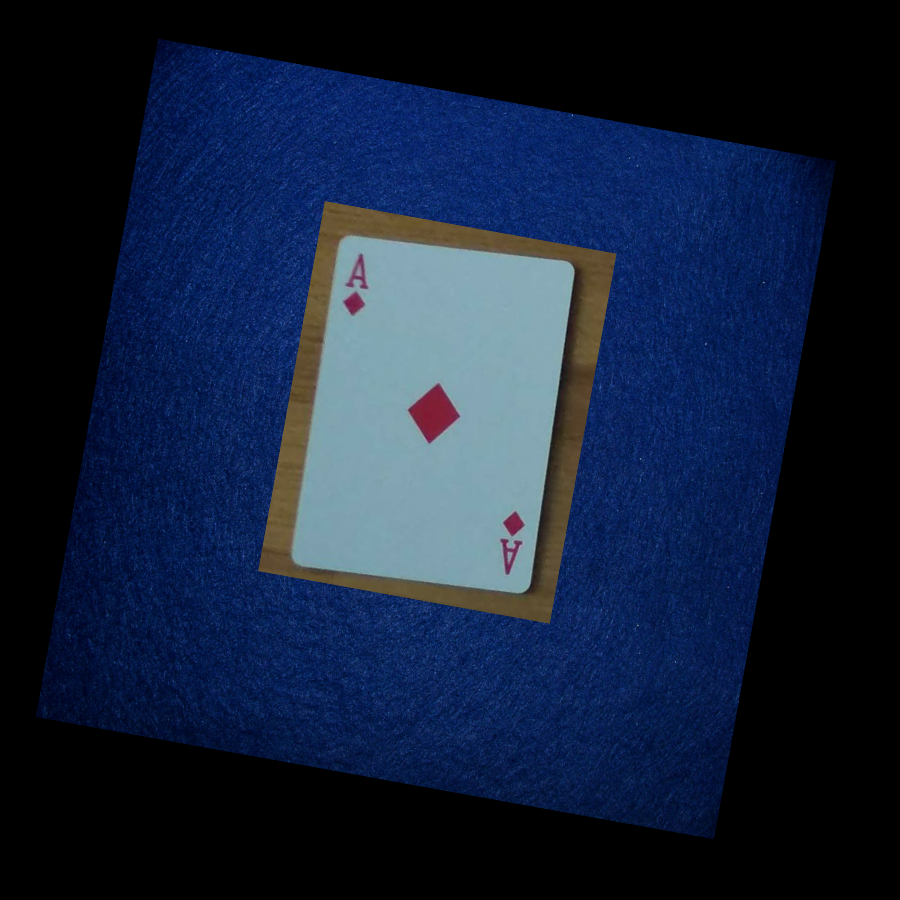1F: (477, 492, 542, 592), (329, 233, 385, 334)
